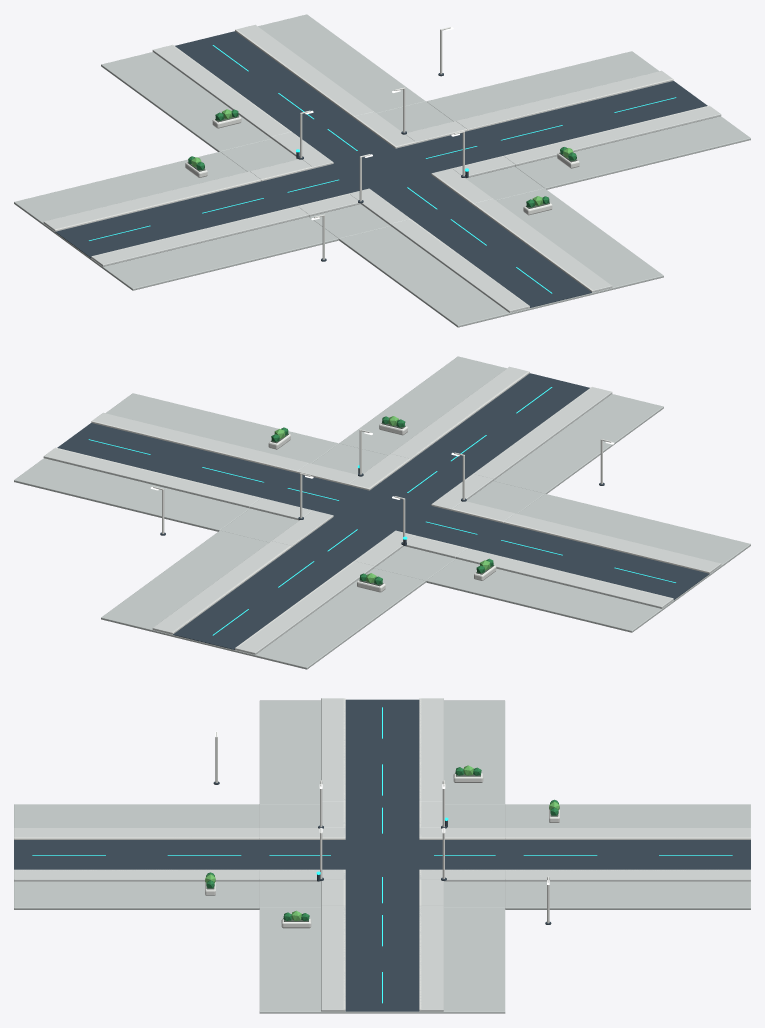
File: ground-cross.glb
3 renders of one model, top to bottom at view 1: azimuth 30°, elevation 25°; view 2: azimuth 150°, elevation 25°; view 3: azimuth 270°, elevation 25°, orthographic. The views are drawn at different scales.
Visible parts, largest first — view 1: ground_CELL_X0_Y-1__Tile_Road_Straight_Base, ground_CELL_X-1_Y0__Tile_Road_Straight_Base, ground_CELL_X1_Y0__Tile_Road_Straight_Base, ground_CELL_X0_Y0__Tile_Road_Cross, ground_CELL_X0_Y1__Tile_Road_Straight_Base, ground_CELL_X0_Y-1__Tile_Road_Straight, ground_CELL_X-1_Y0__Tile_Road_Straight, ground_CELL_X0_Y1__Tile_Road_Straight, ground_CELL_X1_Y0__Tile_Road_Straight, ground_CELL_X0_Y0__Sidewalk_Cross, ground_CELL_X0_Y0__Tile_Road_Cross_Base, ground_CELL_X1_Y0__Sidewalk_Straight (+8 smaller); view 2: ground_CELL_X-1_Y0__Tile_Road_Straight_Base, ground_CELL_X0_Y1__Tile_Road_Straight_Base, ground_CELL_X1_Y0__Tile_Road_Straight_Base, ground_CELL_X0_Y0__Tile_Road_Cross, ground_CELL_X0_Y-1__Tile_Road_Straight_Base, ground_CELL_X0_Y1__Tile_Road_Straight, ground_CELL_X-1_Y0__Tile_Road_Straight, ground_CELL_X0_Y-1__Tile_Road_Straight, ground_CELL_X1_Y0__Tile_Road_Straight, ground_CELL_X0_Y0__Sidewalk_Cross, ground_CELL_X0_Y0__Tile_Road_Cross_Base, ground_CELL_X1_Y0__Sidewalk_Straight (+8 smaller); view 3: ground_CELL_X1_Y0__Tile_Road_Straight_Base, ground_CELL_X0_Y-1__Tile_Road_Straight_Base, ground_CELL_X0_Y0__Tile_Road_Cross, ground_CELL_X0_Y1__Tile_Road_Straight_Base, ground_CELL_X-1_Y0__Tile_Road_Straight_Base, ground_CELL_X1_Y0__Tile_Road_Straight, ground_CELL_X-1_Y0__Tile_Road_Straight, ground_CELL_X0_Y1__Tile_Road_Straight, ground_CELL_X0_Y-1__Tile_Road_Straight, ground_CELL_X0_Y0__Sidewalk_Cross, ground_CELL_X0_Y0__Tile_Road_Cross_Base, ground_CELL_X0_Y1__Sidewalk_Straight (+8 smaller).
Boxes of the visible parts, <box> form: ground_CELL_X0_Y-1__Tile_Road_Straight_Base: <box>339,188,663,327</box>; ground_CELL_X-1_Y0__Tile_Road_Straight_Base: <box>14,151,338,290</box>; ground_CELL_X1_Y0__Tile_Road_Straight_Base: <box>426,51,750,189</box>; ground_CELL_X0_Y0__Tile_Road_Cross: <box>262,118,501,219</box>; ground_CELL_X0_Y1__Tile_Road_Straight_Base: <box>101,14,425,151</box>; ground_CELL_X0_Y-1__Tile_Road_Straight: <box>413,205,591,307</box>; ground_CELL_X-1_Y0__Tile_Road_Straight: <box>55,181,295,257</box>; ground_CELL_X0_Y1__Tile_Road_Straight: <box>175,31,353,132</box>; ground_CELL_X1_Y0__Tile_Road_Straight: <box>468,81,707,155</box>; ground_CELL_X0_Y0__Sidewalk_Cross: <box>250,112,514,225</box>; ground_CELL_X0_Y0__Tile_Road_Cross_Base: <box>220,101,544,239</box>; ground_CELL_X1_Y0__Sidewalk_Straight: <box>456,70,721,166</box>; ground_CELL_X-1_Y0__Tile_Road_Straight_Base: <box>426,493,750,632</box>; ground_CELL_X0_Y1__Tile_Road_Straight_Base: <box>101,530,425,669</box>; ground_CELL_X1_Y0__Tile_Road_Straight_Base: <box>14,393,338,531</box>; ground_CELL_X0_Y0__Tile_Road_Cross: <box>263,460,502,561</box>; ground_CELL_X0_Y-1__Tile_Road_Straight_Base: <box>339,356,663,493</box>; ground_CELL_X0_Y1__Tile_Road_Straight: <box>173,547,351,649</box>; ground_CELL_X-1_Y0__Tile_Road_Straight: <box>469,523,709,599</box>; ground_CELL_X0_Y-1__Tile_Road_Straight: <box>411,373,589,474</box>; ground_CELL_X1_Y0__Tile_Road_Straight: <box>57,423,296,497</box>; ground_CELL_X0_Y0__Sidewalk_Cross: <box>250,454,514,567</box>; ground_CELL_X0_Y0__Tile_Road_Cross_Base: <box>220,443,544,581</box>; ground_CELL_X1_Y0__Sidewalk_Straight: <box>43,412,308,508</box>; ground_CELL_X1_Y0__Tile_Road_Straight_Base: <box>259,908,505,1013</box>; ground_CELL_X0_Y-1__Tile_Road_Straight_Base: <box>14,804,259,909</box>; ground_CELL_X0_Y0__Tile_Road_Cross: <box>259,803,505,907</box>; ground_CELL_X0_Y1__Tile_Road_Straight_Base: <box>505,804,750,909</box>; ground_CELL_X-1_Y0__Tile_Road_Straight_Base: <box>259,700,505,804</box>; ground_CELL_X1_Y0__Tile_Road_Straight: <box>345,907,419,1011</box>; ground_CELL_X-1_Y0__Tile_Road_Straight: <box>345,699,419,803</box>; ground_CELL_X0_Y1__Tile_Road_Straight: <box>505,840,750,869</box>; ground_CELL_X0_Y-1__Tile_Road_Straight: <box>14,840,259,869</box>; ground_CELL_X0_Y0__Sidewalk_Cross: <box>259,802,505,905</box>; ground_CELL_X0_Y0__Tile_Road_Cross_Base: <box>259,804,505,907</box>; ground_CELL_X0_Y1__Sidewalk_Straight: <box>505,828,750,881</box>.
Bounding box in the file's own units: 60 × 4.64 × 60.
